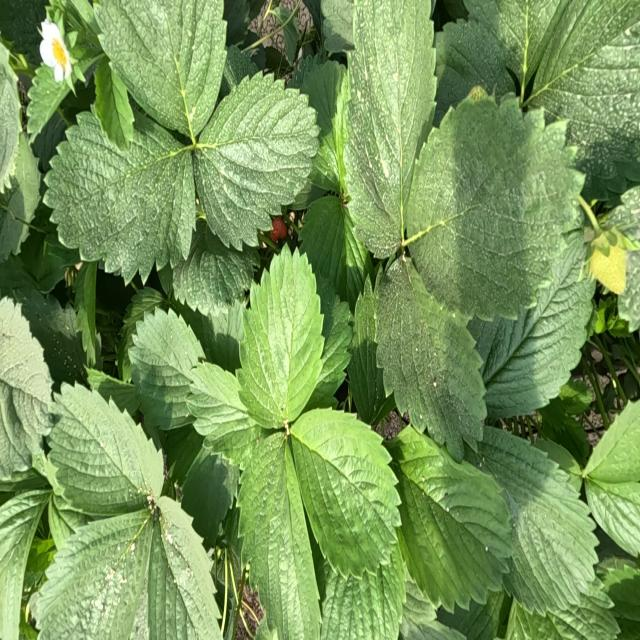Flowers: (39, 20, 71, 81)
Leaves: (404, 95, 577, 320), (46, 110, 194, 280), (346, 0, 436, 258), (479, 427, 598, 615), (195, 74, 318, 250), (376, 261, 485, 459), (531, 0, 638, 200), (477, 240, 595, 418), (393, 437, 512, 611), (97, 0, 225, 136), (290, 411, 396, 575), (239, 441, 319, 638), (36, 506, 152, 639), (49, 385, 163, 516), (239, 248, 323, 424), (147, 495, 222, 638), (290, 54, 351, 210), (474, 0, 581, 86), (0, 299, 51, 476), (130, 309, 203, 429), (300, 196, 371, 309), (0, 483, 51, 639), (323, 544, 403, 638), (347, 275, 396, 428), (171, 226, 253, 315), (437, 17, 514, 111), (15, 287, 86, 383), (188, 363, 258, 460), (305, 276, 353, 409), (506, 590, 620, 639), (0, 133, 41, 261), (181, 454, 239, 544), (117, 287, 169, 381), (585, 401, 639, 483), (180, 306, 242, 371), (586, 480, 639, 555), (400, 579, 465, 639), (437, 591, 504, 639), (601, 561, 640, 639), (26, 68, 68, 138), (1, 45, 20, 190), (1, 0, 46, 61), (89, 371, 141, 415), (312, 1, 355, 52), (76, 262, 97, 366), (45, 234, 80, 281), (283, 19, 299, 63), (281, 9, 289, 17)
Strawberries: (590, 246, 627, 293), (270, 217, 288, 242)
